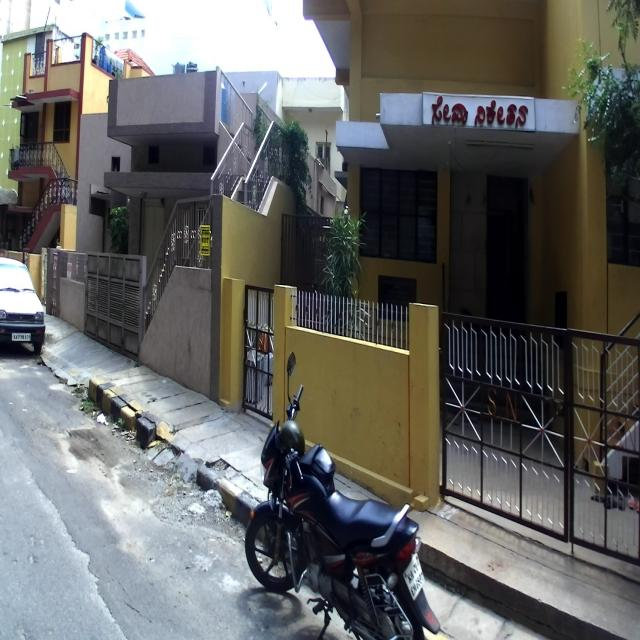car: (0, 255, 45, 359)
motorcycle: (244, 351, 441, 639)
